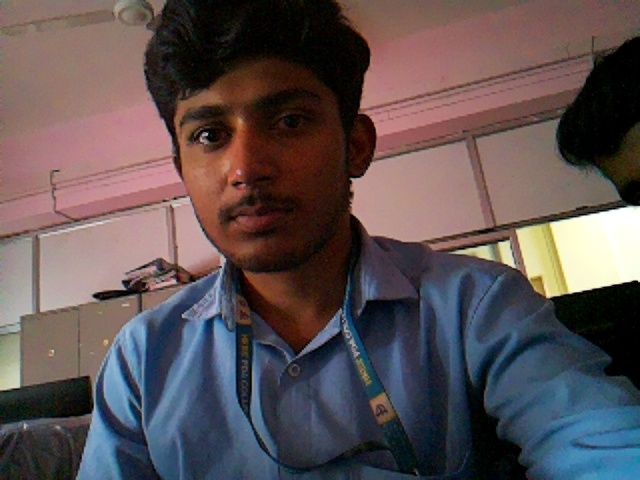Vaibhav: (141, 0, 377, 277)
